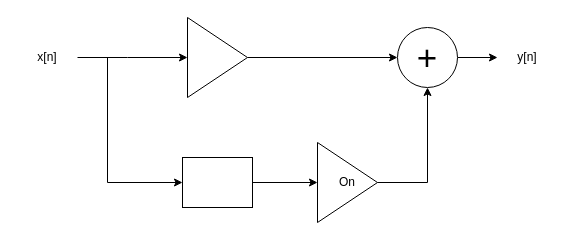
This 574x240 diagram has some shape labels left out. The shapes that lost their labels are listed below. From the top down, each one's centre as x and y in pixels, then its label:
At (x=217, y=57): "1 - On".
At (x=217, y=182): "FX".
